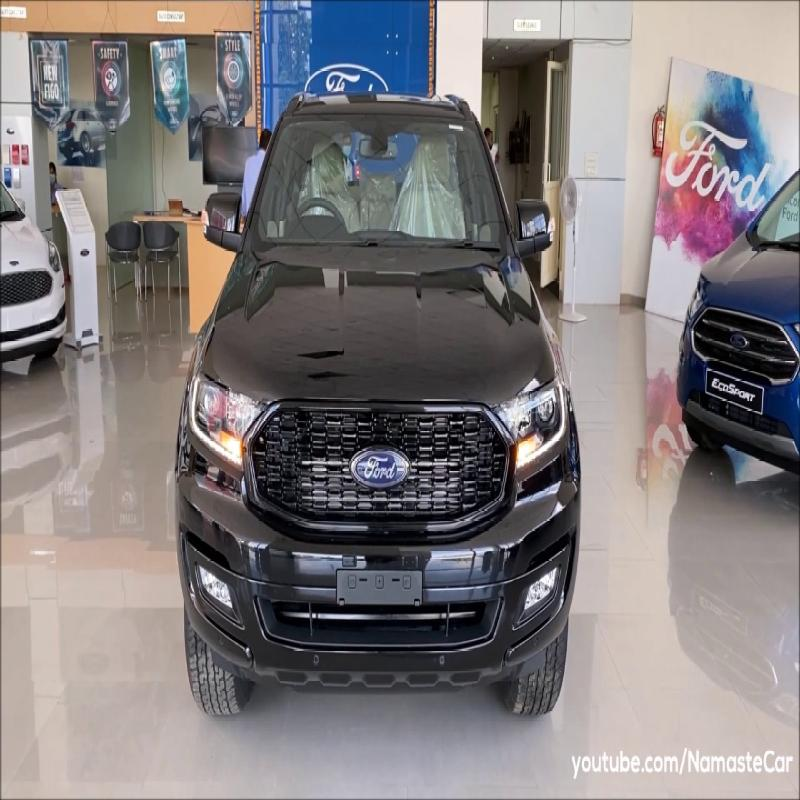car: (177, 67, 614, 719)
